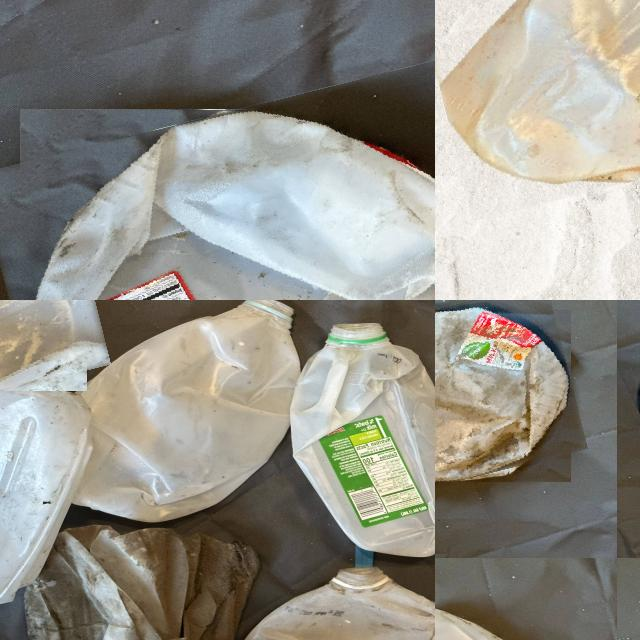milk-jug: (0, 82, 435, 300), (59, 300, 299, 518), (435, 0, 640, 198), (292, 319, 435, 559), (0, 525, 262, 640), (435, 300, 579, 495), (0, 345, 87, 623), (220, 562, 435, 640)
